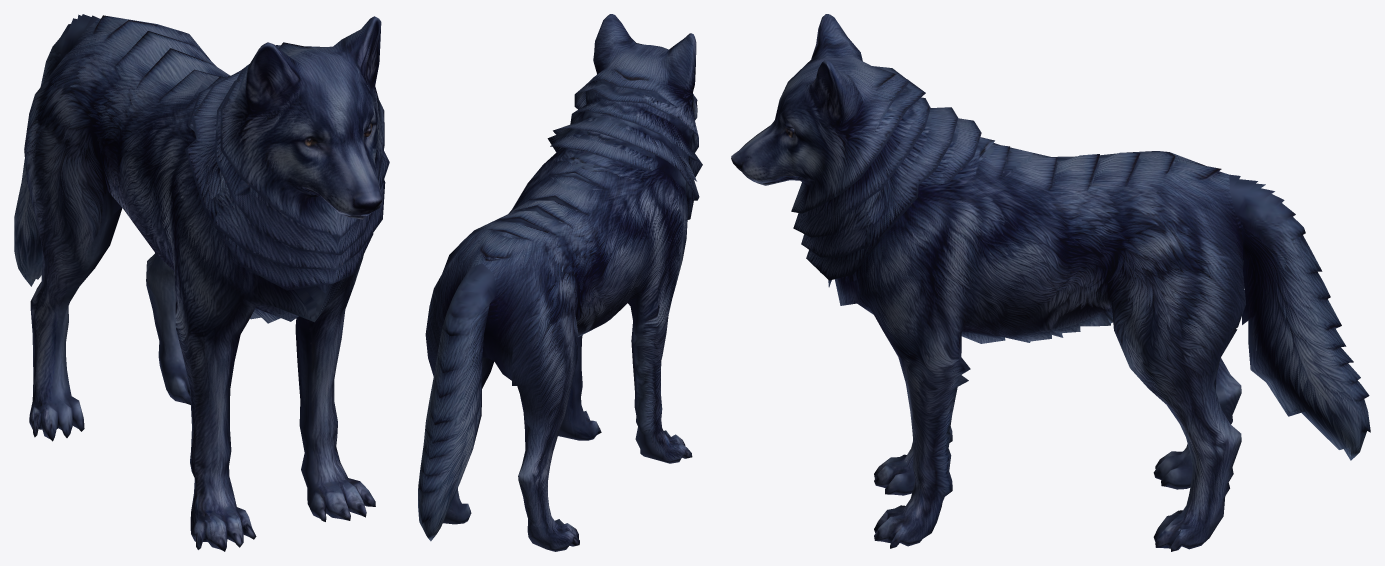
File: wolf.glb
3 renders of one model, left to right at view 1: azimuth 30°, elevation 25°; view 2: azimuth 150°, elevation 25°; view 3: azimuth 270°, elevation 25°, orthographic. The views are drawn at different scales.
Visible parts, largest first — view 1: w; view 2: w; view 3: w.
Boxes of the visible parts, x1,y1,x2,y2 form: w: [14, 14, 389, 551]; w: [418, 14, 702, 551]; w: [731, 14, 1370, 551].
Size of the model in its own units: 0.3141 by 0.8163 by 1.
1 material, 1 textured.
